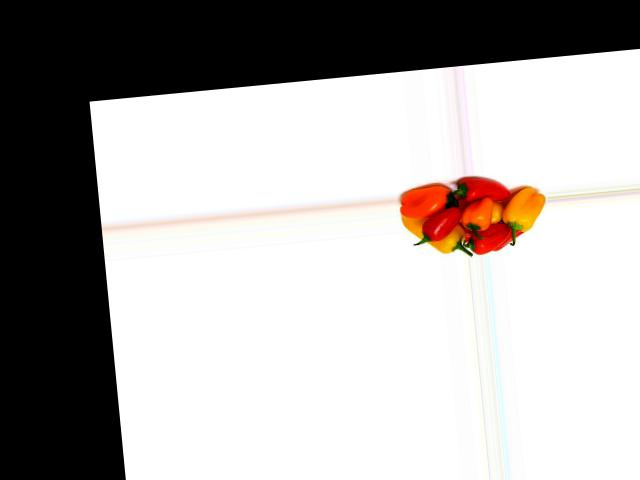bell_pepper: (402, 211, 467, 260)
